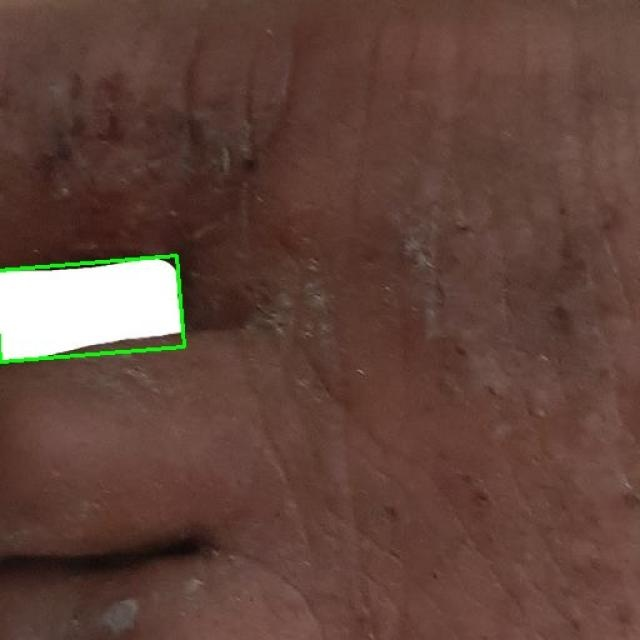Eczema: (0, 256, 185, 362)
